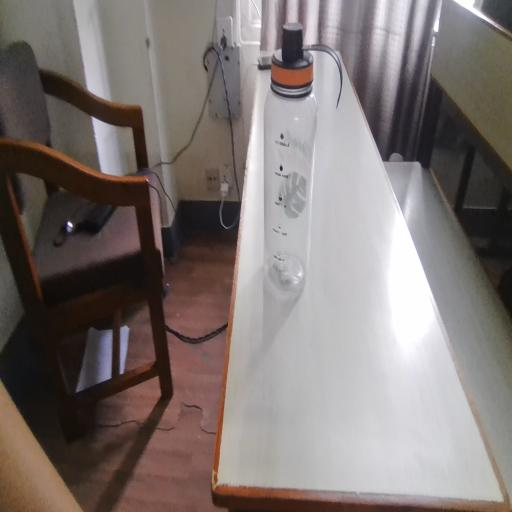Bottle: (248, 13, 328, 290)
